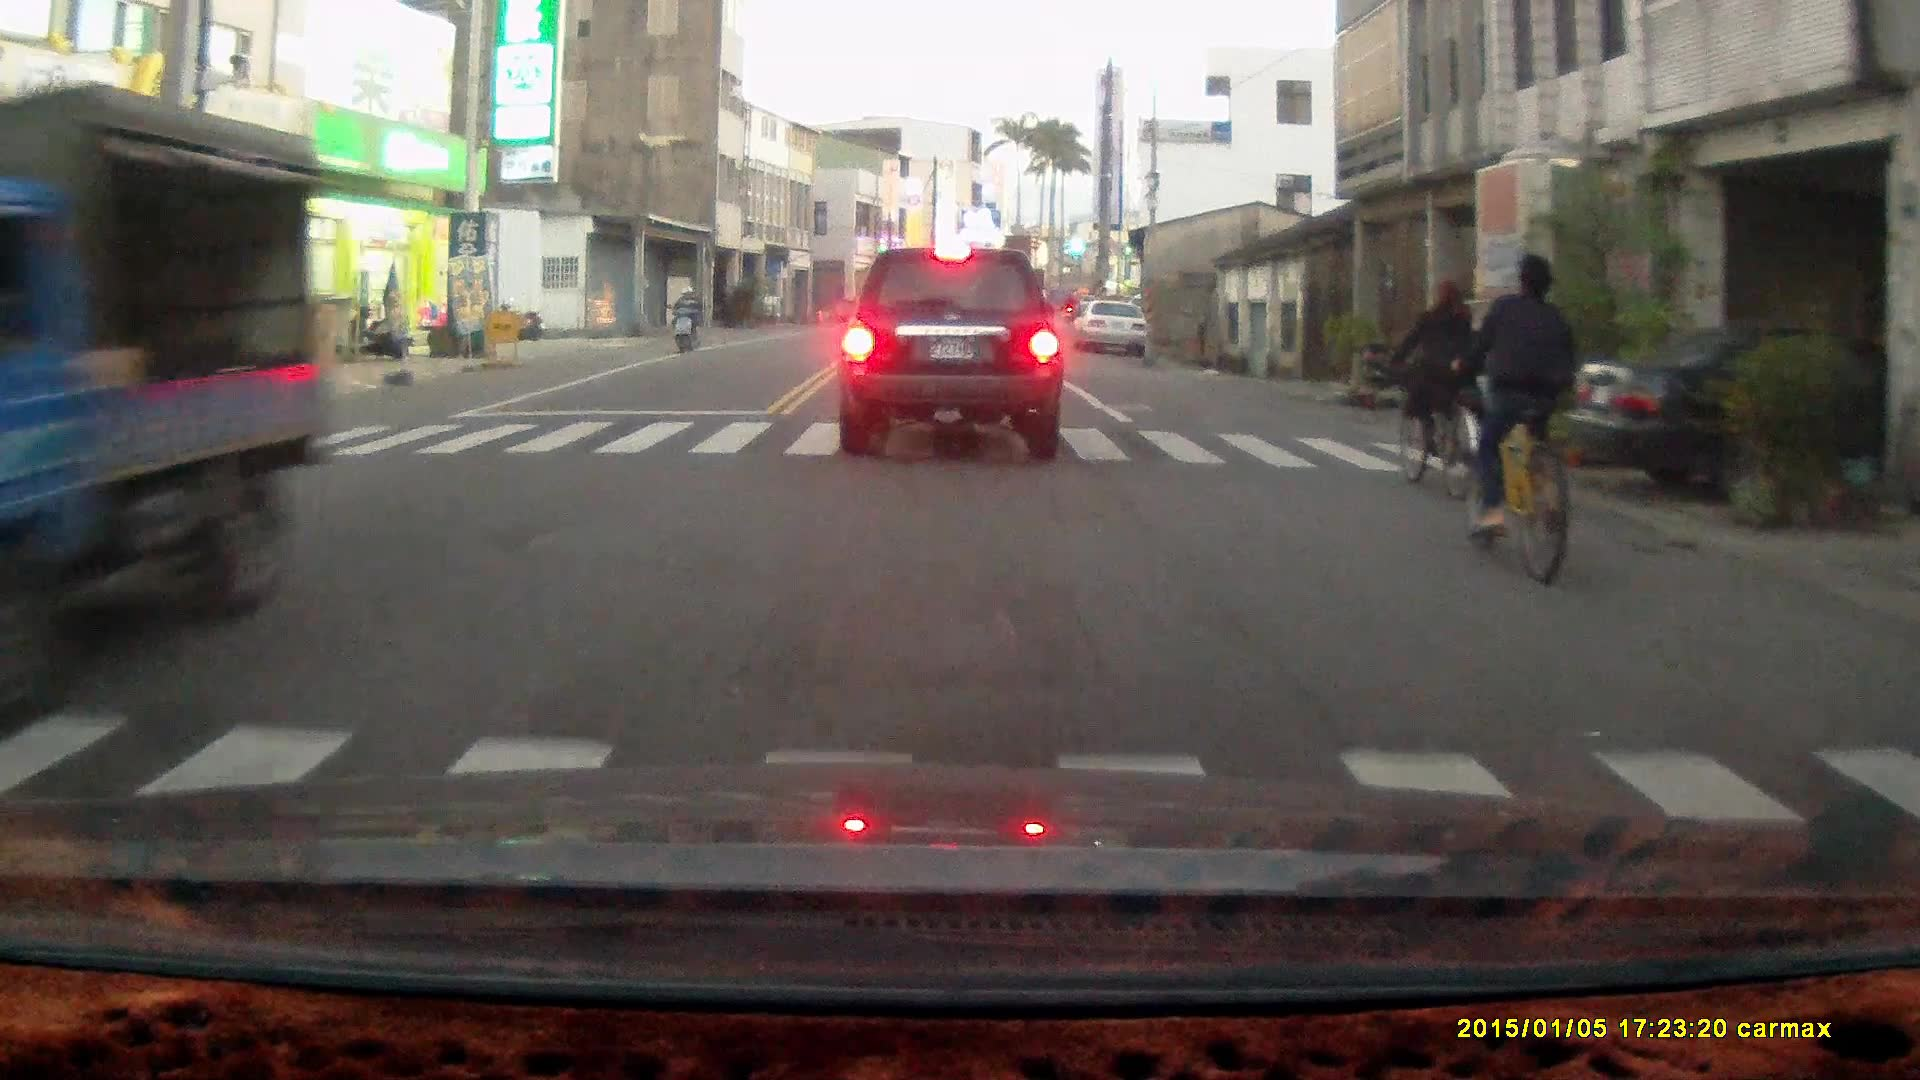rider: (1443, 252, 1574, 588), (1387, 278, 1479, 504), (668, 281, 700, 355)
vehicle: (1, 94, 314, 693), (1565, 321, 1920, 509), (832, 246, 1068, 460), (1077, 301, 1152, 361)
